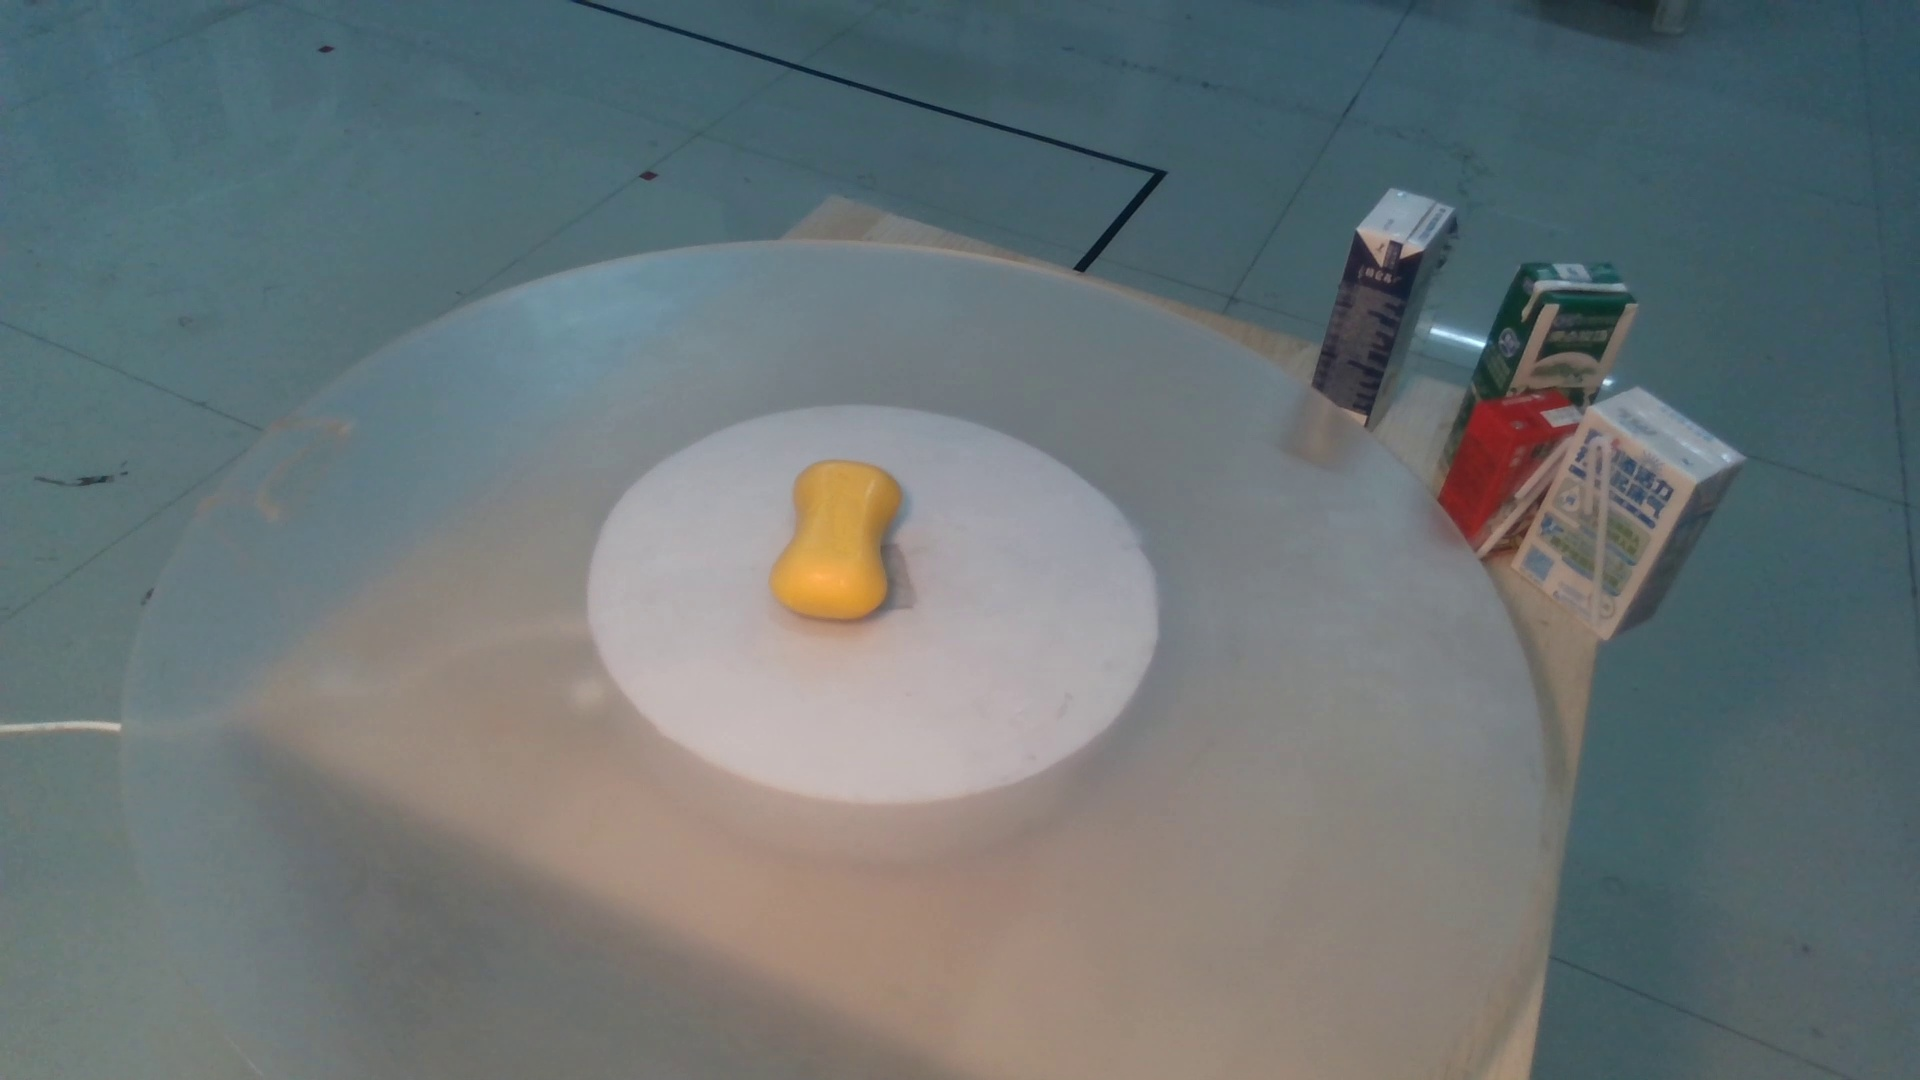CA003_1: (756, 440, 924, 644)
